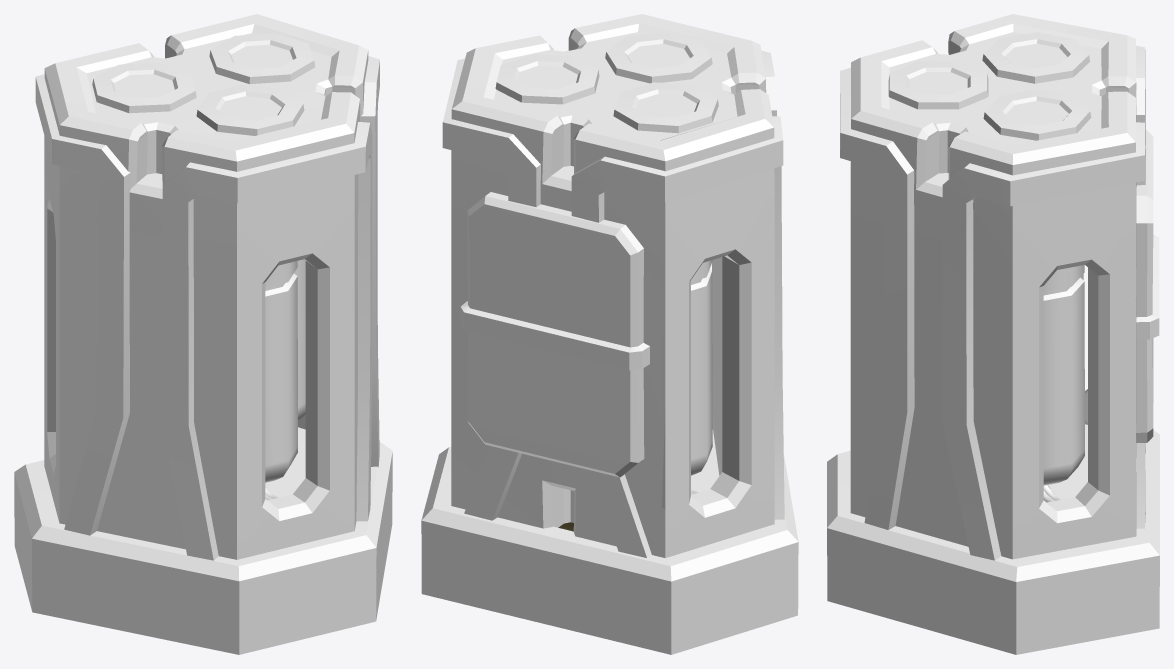
File: ElectricityBoxDefaultVisual.glb
3 views of the same model, side by side, from view 1: azimuth 30°, elevation 25°; view 2: azimuth 150°, elevation 25°; view 3: azimuth 270°, elevation 25° (orthographic).
Visible parts, largest first — view 1: DamageZoneHologram; view 2: DamageZoneHologram; view 3: DamageZoneHologram.
Part boxes in pixels (box(x1,y1,x2,y2)): DamageZoneHologram: box(14, 14, 392, 654); DamageZoneHologram: box(421, 14, 798, 654); DamageZoneHologram: box(827, 14, 1159, 654).
Size of the model in its own units: 0.5541 by 0.7209 by 0.4474.
2 materials, 1 textured.
